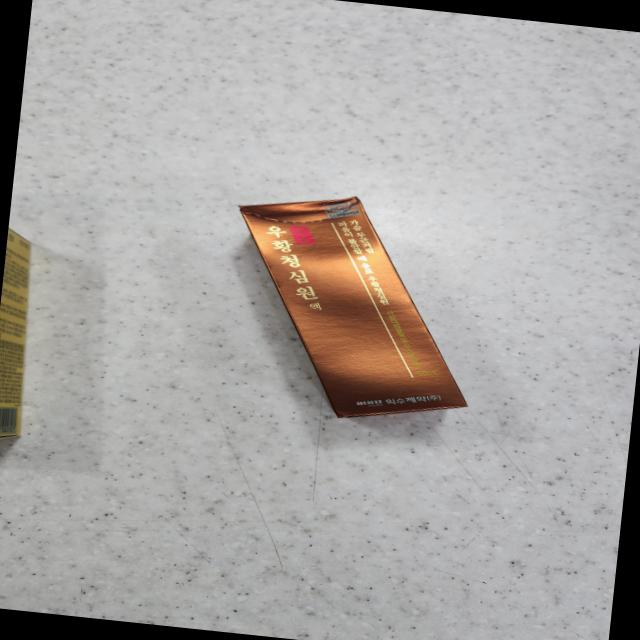box: (220, 186, 487, 429)
